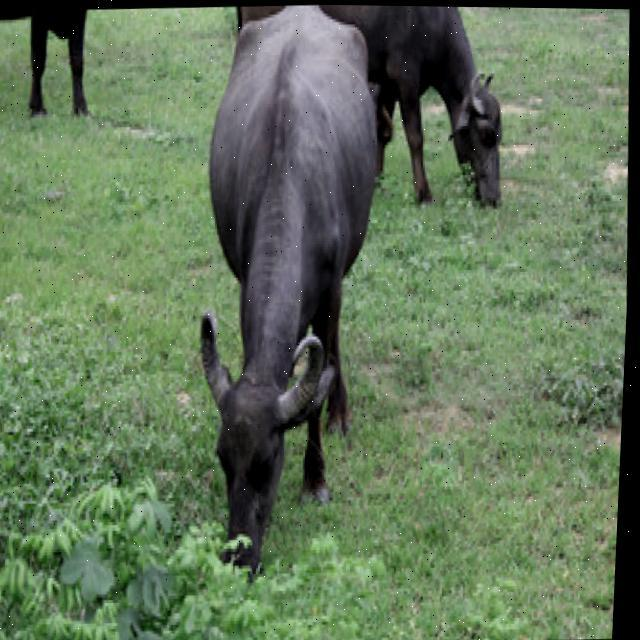Buffalo: (173, 3, 390, 586)
